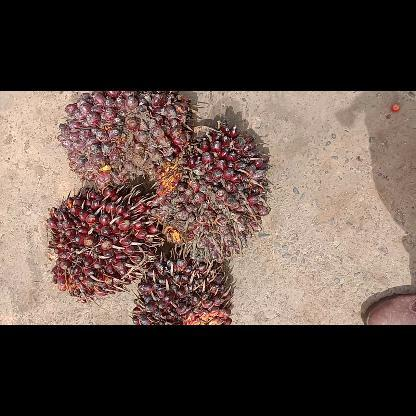Kurang masak: (148, 120, 272, 264), (43, 182, 161, 302)
TBS mentah: (56, 91, 196, 190), (129, 252, 235, 324)
